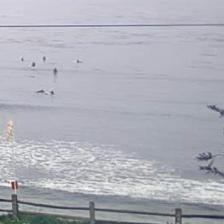surfer: (37, 90, 46, 94), (53, 67, 58, 74), (76, 59, 83, 64), (42, 56, 46, 62), (32, 62, 36, 67), (50, 90, 54, 95), (21, 57, 24, 61)
